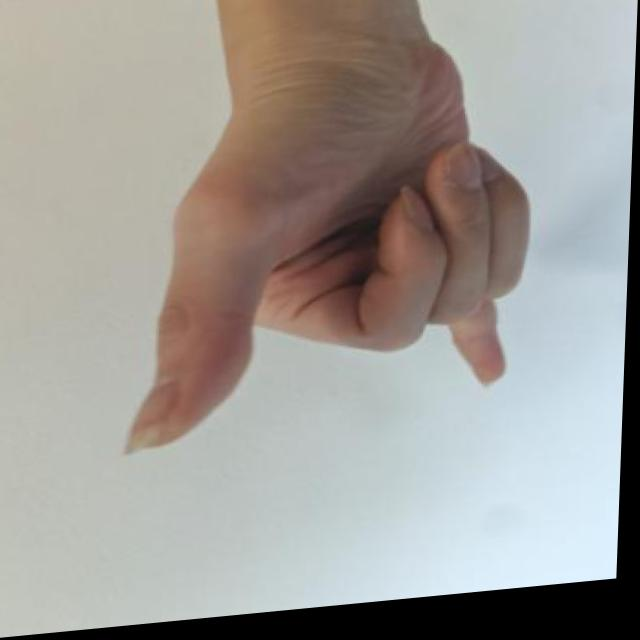Y: (101, 23, 559, 477)
